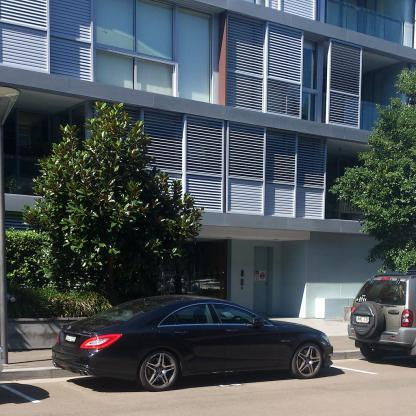car: (47, 292, 336, 392), (345, 269, 416, 367)
